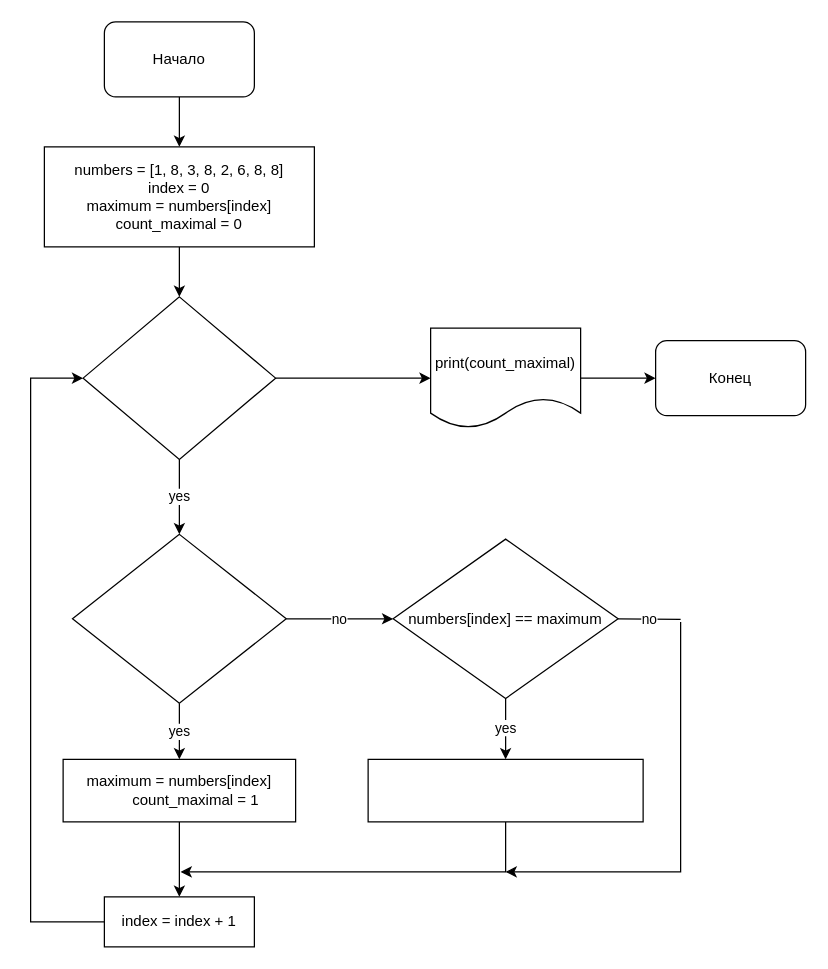
This 828x969 diagram has some shape labels left out. The centre of each missing label's shape, as x and y in pixels:
count_maximal = count_maximal + 1: (x=505, y=790)
index < numbers.length: (x=179, y=377)
numbers[index] > maximum: (x=178, y=618)
